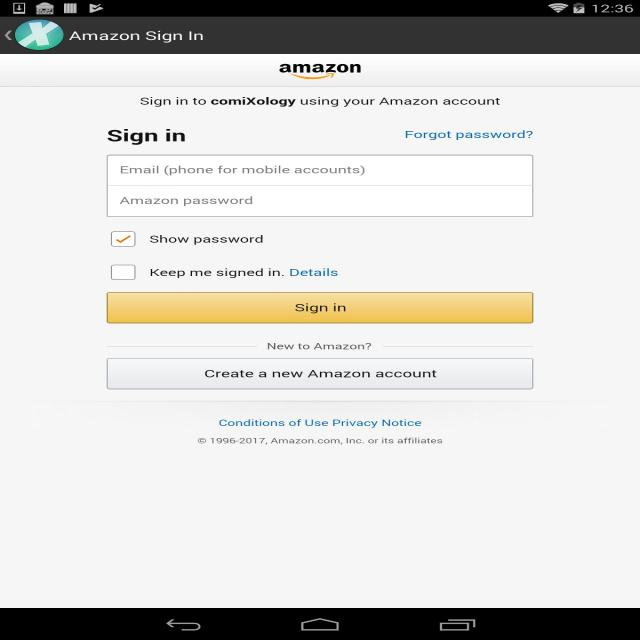button: (108, 291, 534, 323), (105, 358, 533, 389), (110, 230, 136, 248), (1, 23, 15, 53), (110, 264, 136, 280)
field: (106, 156, 535, 186), (107, 186, 533, 216)
heading: (66, 28, 206, 43), (106, 126, 188, 146)
image: (268, 57, 368, 81), (16, 21, 64, 51)
label: (118, 162, 367, 178), (147, 267, 340, 279), (117, 195, 257, 208), (149, 234, 267, 247)
link: (218, 417, 425, 431), (401, 128, 536, 141), (286, 267, 340, 279)
text: (139, 94, 504, 109), (195, 436, 445, 447), (264, 340, 375, 352)
